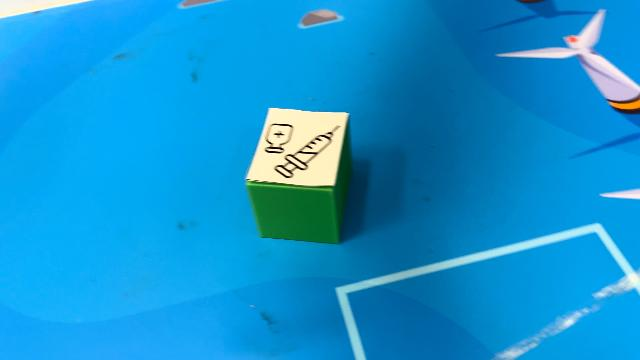syringe: (245, 106, 352, 244)
